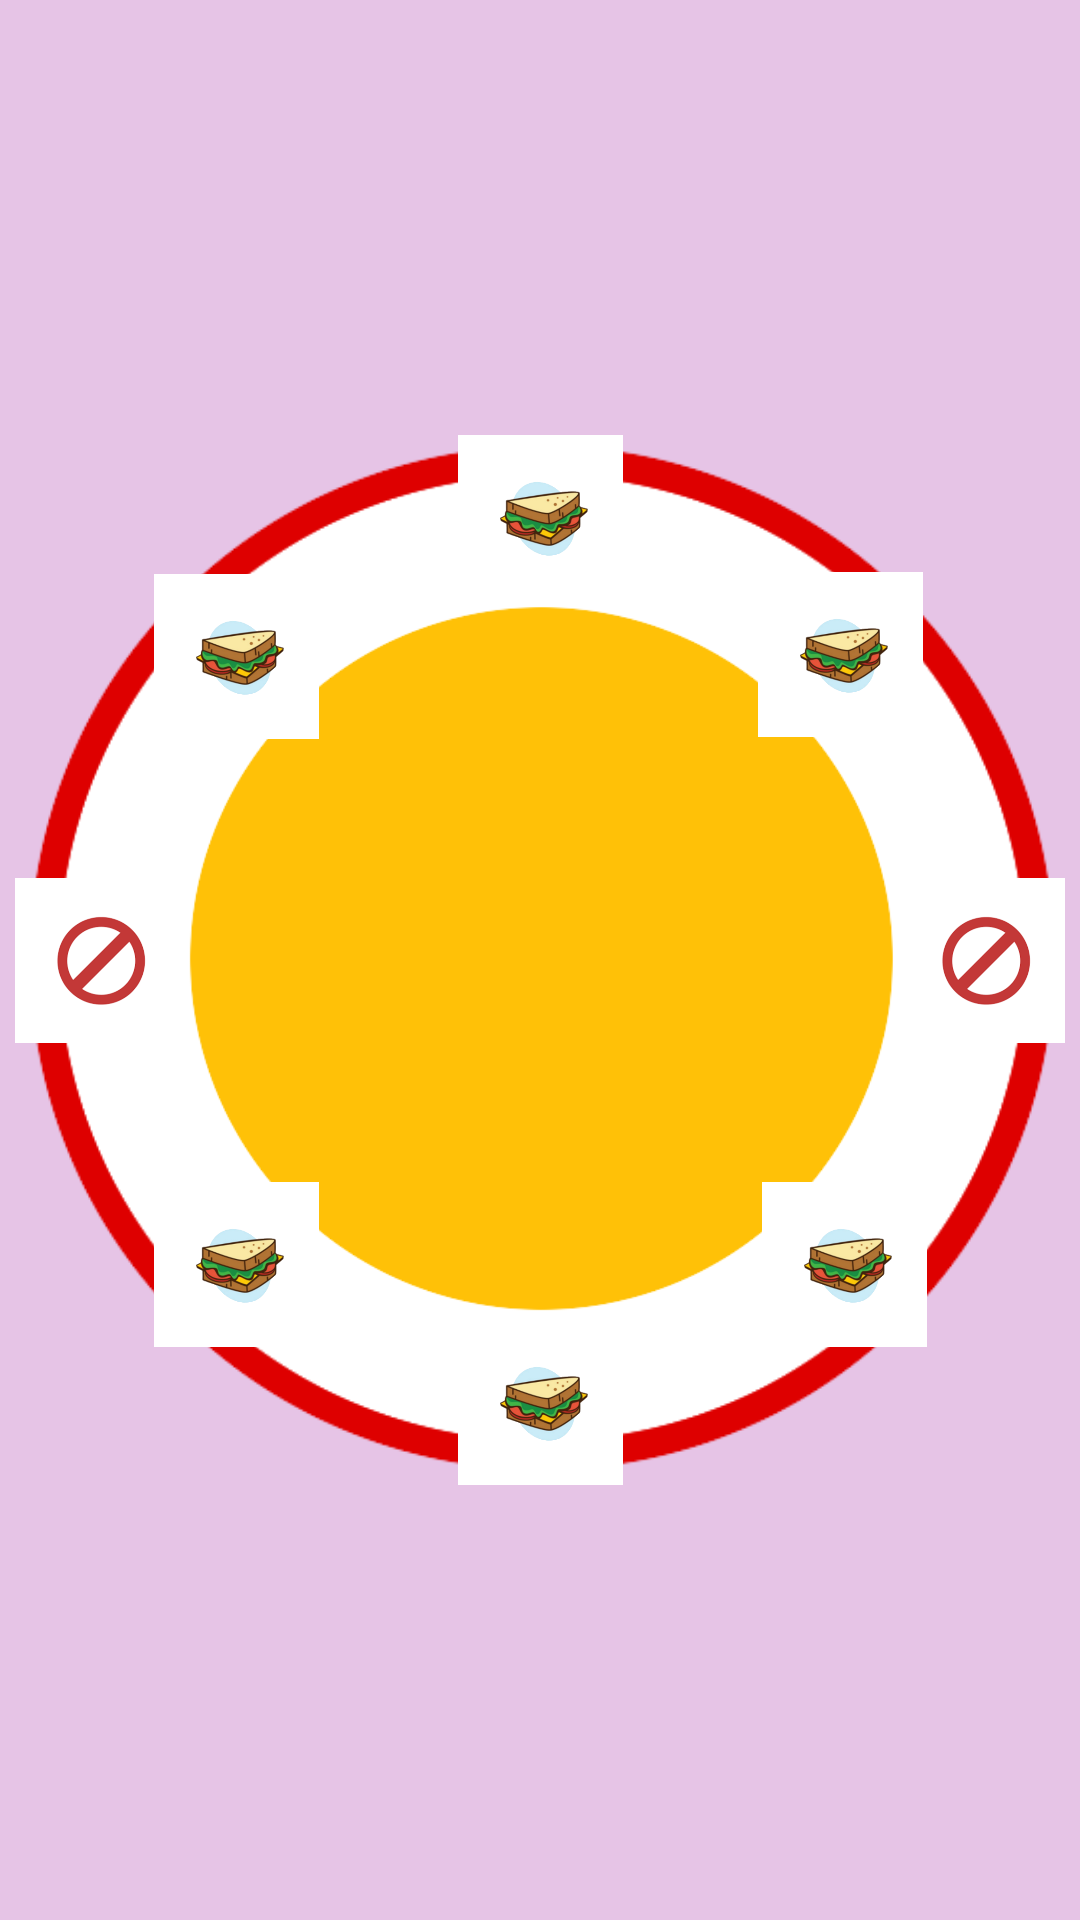

Where to tap for icons on this 1080 x 1920 app screen, as [x,y]:
no win: [101,961], [986,961]
